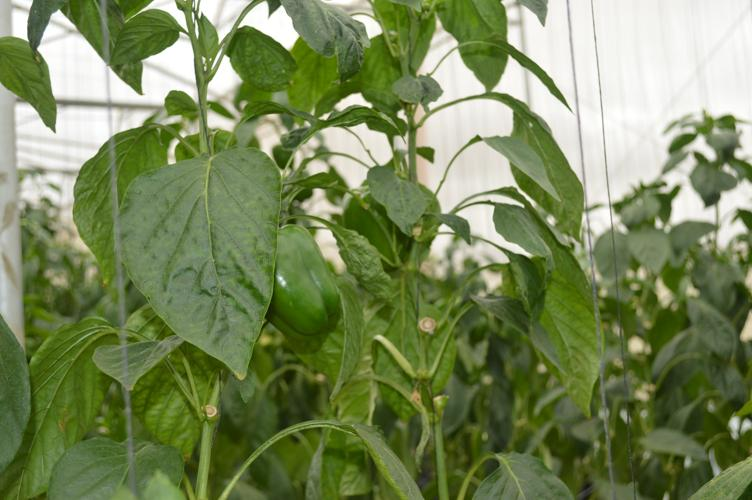BellPepper: (254, 221, 350, 344)
